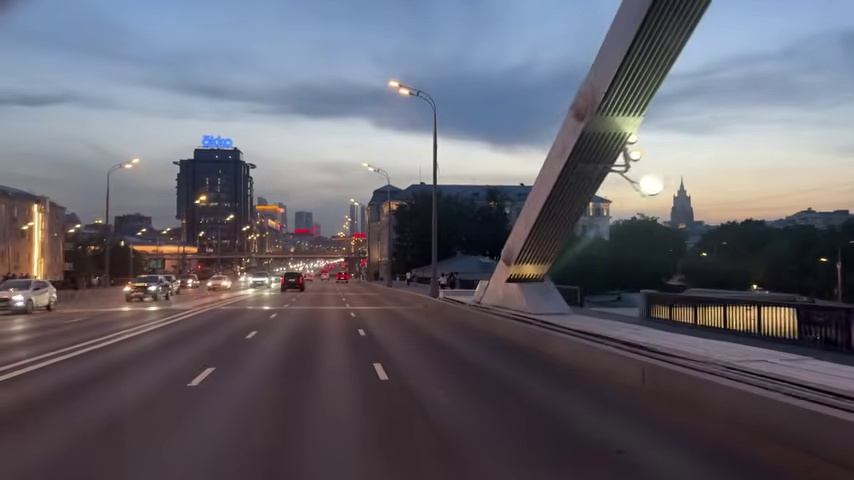acesa: (387, 79, 407, 95), (125, 156, 141, 170)
